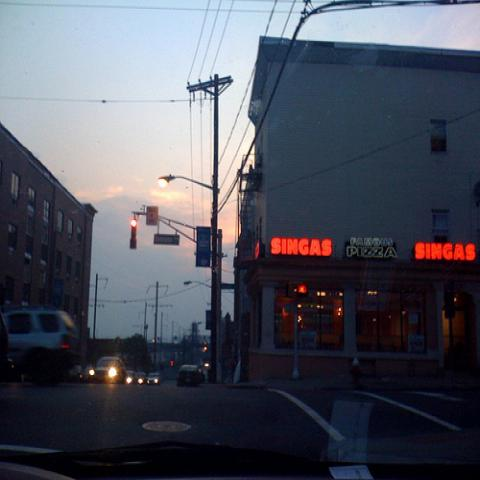car: (3, 310, 80, 385), (0, 310, 16, 389), (88, 356, 127, 383), (176, 364, 202, 383), (126, 371, 138, 385), (147, 373, 159, 383), (137, 372, 146, 385), (200, 369, 205, 381)
